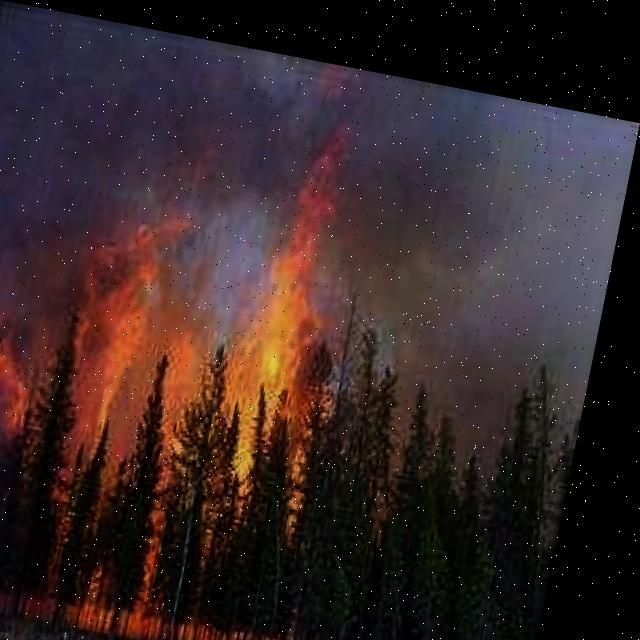Fire: (0, 65, 504, 639)
